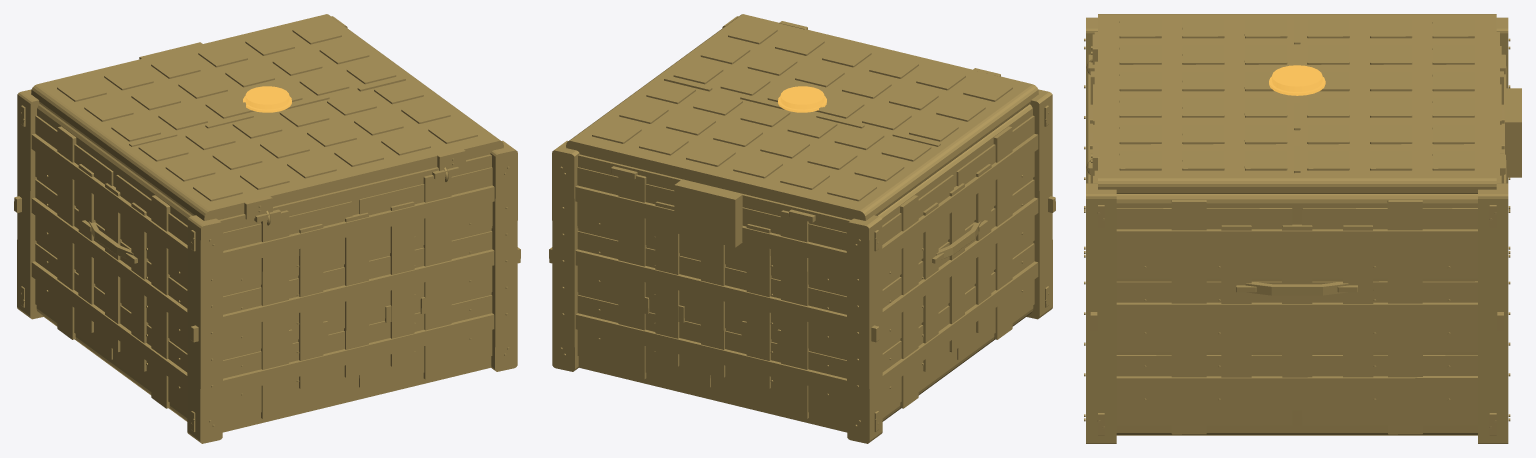
The model's file is care_crate.glb.
3 views of the same model, side by side, from view 1: azimuth 30°, elevation 25°; view 2: azimuth 150°, elevation 25°; view 3: azimuth 270°, elevation 25° (orthographic). The views are drawn at different scales.
Visible parts, largest first — view 1: care_crate__care_crate, care_crate__marker; view 2: care_crate__care_crate, care_crate__marker; view 3: care_crate__care_crate, care_crate__marker.
Boxes of the visible parts, x1=… form: care_crate__care_crate: x1=14, y1=14, x2=520, y2=443; care_crate__marker: x1=243, y1=86, x2=291, y2=112; care_crate__care_crate: x1=549, y1=14, x2=1055, y2=443; care_crate__marker: x1=778, y1=86, x2=826, y2=112; care_crate__care_crate: x1=1084, y1=14, x2=1521, y2=443; care_crate__marker: x1=1269, y1=65, x2=1325, y2=95.
Size of the model in its own units: 1.29 by 0.916 by 1.3.
